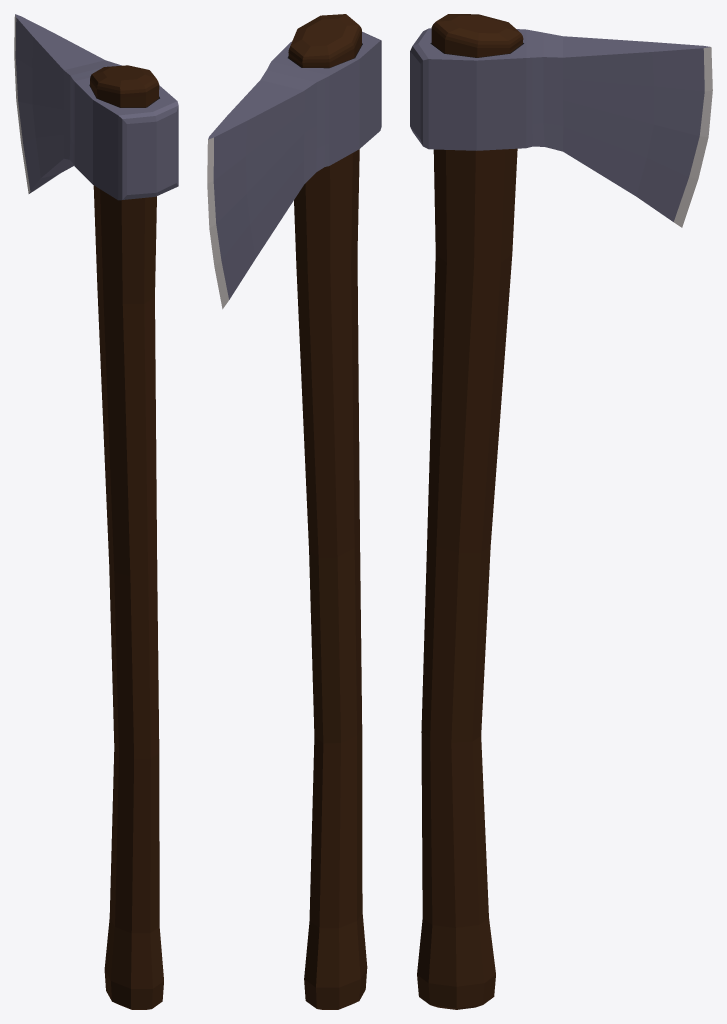
The model's file is machado.glb.
3 views of the same model, side by side, from view 1: azimuth 30°, elevation 25°; view 2: azimuth 150°, elevation 25°; view 3: azimuth 270°, elevation 25° (orthographic). The views are drawn at different scales.
Visible parts, largest first — view 1: machado; view 2: machado; view 3: machado.
Part boxes in pixels (left/top/right/bottom): machado: left=14, top=14, right=178, bottom=1009; machado: left=207, top=14, right=381, bottom=1009; machado: left=410, top=14, right=712, bottom=1009.
Bounding box in the file's own units: 0.1156 × 1.57 × 0.4393.
